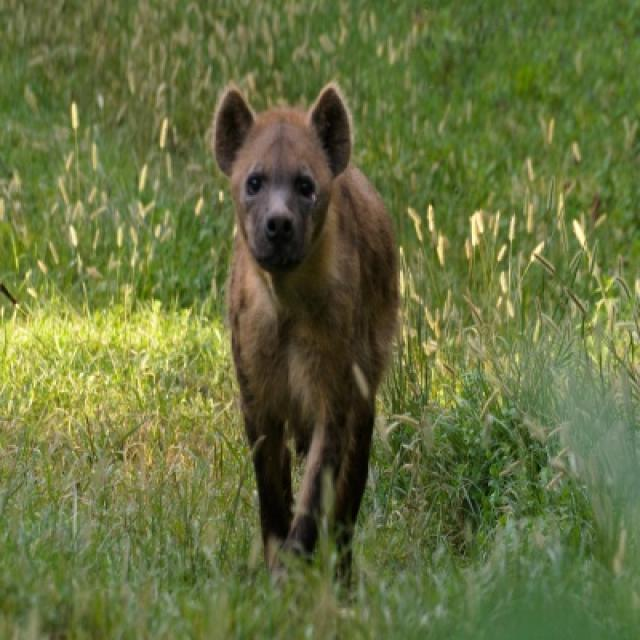hyena: (214, 83, 397, 576)
